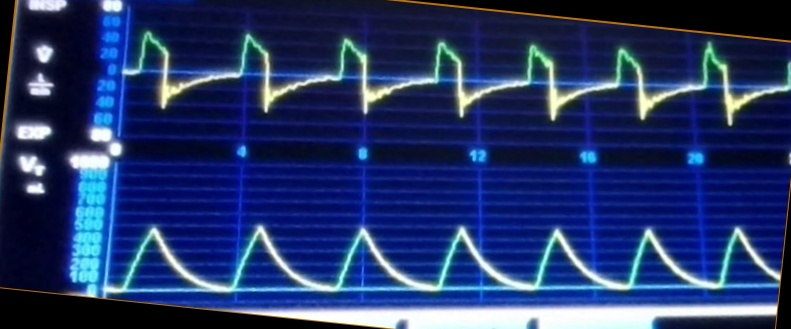Accumulation Flow: (128, 29, 747, 137)
Volume: (113, 205, 778, 300)
